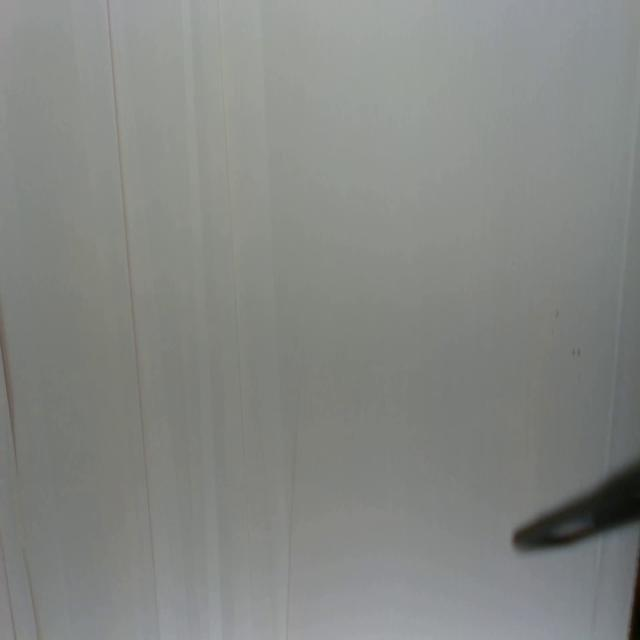crease: (106, 0, 162, 640), (217, 4, 250, 513), (604, 113, 638, 459), (286, 381, 301, 640), (0, 328, 21, 478), (1, 533, 18, 640), (23, 545, 41, 638)
hole: (554, 306, 562, 321), (570, 347, 576, 360), (577, 347, 583, 359)
